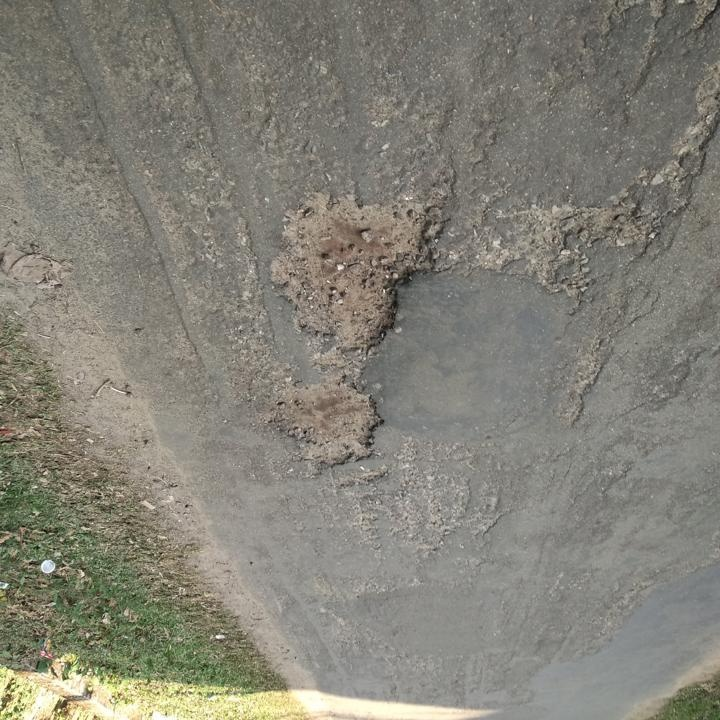pothole: (265, 191, 438, 358), (491, 197, 660, 292), (269, 383, 384, 477)
